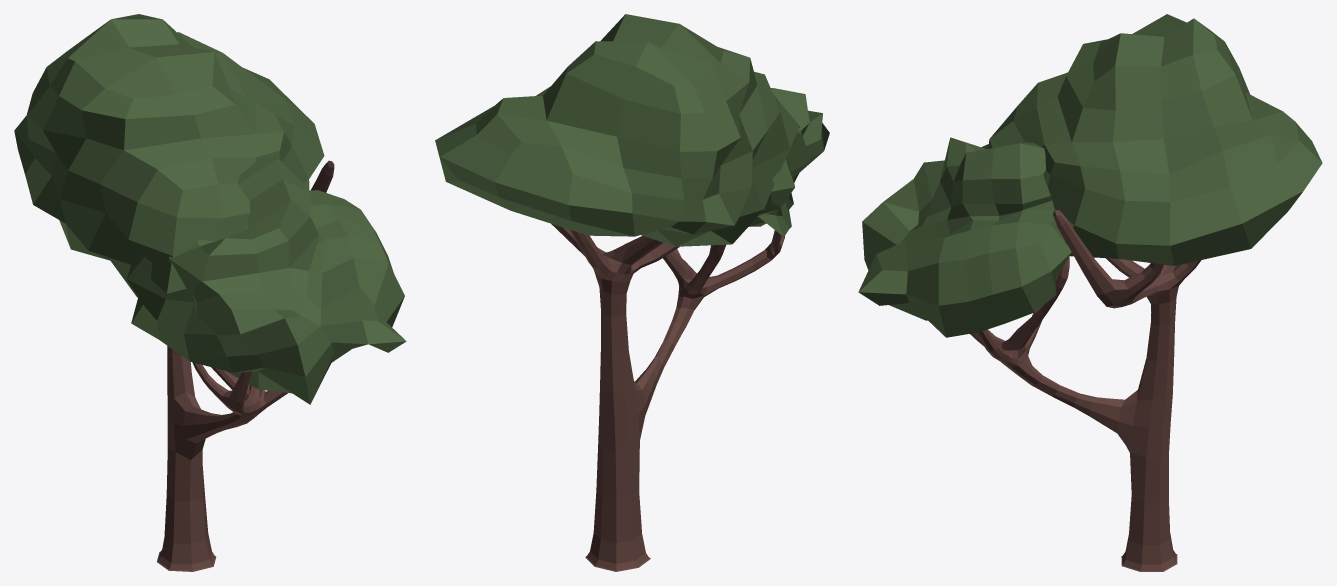
Rendered from platan-2.glb.
3 renders of one model, left to right at view 1: azimuth 30°, elevation 25°; view 2: azimuth 150°, elevation 25°; view 3: azimuth 270°, elevation 25°, orthographic. The views are drawn at different scales.
Parts seen in each view (by area): view 1: CommonTree_2; view 2: CommonTree_2; view 3: CommonTree_2.
Part boxes in pixels (x1,y1,x2,y2): CommonTree_2: (14, 14, 406, 571); CommonTree_2: (435, 14, 829, 571); CommonTree_2: (858, 14, 1322, 571).
Bounding box in the file's own units: 1.66 × 3.12 × 2.54.
